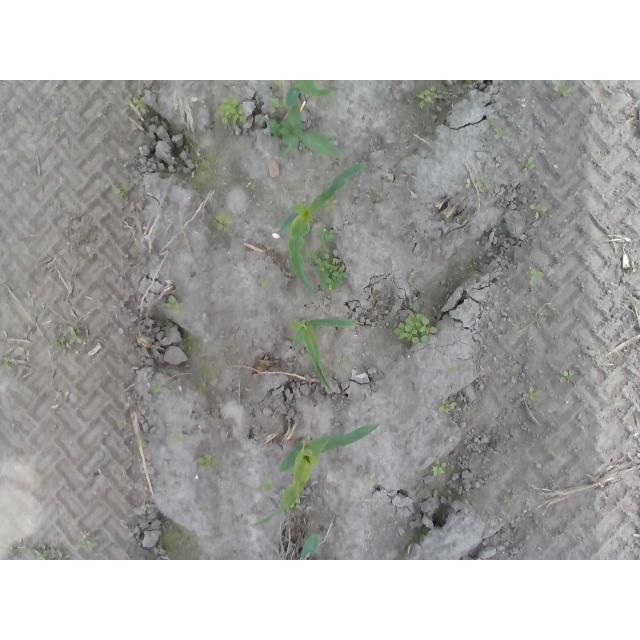Maize: (252, 421, 380, 535), (280, 162, 371, 299), (288, 316, 356, 390), (284, 81, 339, 112), (300, 536, 325, 561)
Weeds: (269, 106, 341, 163), (306, 224, 350, 291), (391, 311, 438, 345), (218, 93, 248, 127), (162, 293, 183, 319), (416, 86, 438, 109), (58, 329, 82, 350), (196, 449, 220, 468), (32, 548, 65, 560), (214, 213, 234, 232), (553, 80, 572, 97), (530, 201, 547, 220), (437, 399, 458, 413), (529, 269, 544, 288), (523, 157, 537, 175), (334, 356, 352, 369), (433, 463, 448, 478), (526, 387, 541, 402), (133, 96, 147, 112), (79, 533, 94, 547), (261, 479, 275, 494), (113, 181, 127, 195), (271, 97, 281, 116), (560, 369, 573, 383), (241, 179, 256, 190), (476, 176, 489, 188), (495, 127, 506, 139), (259, 276, 269, 289), (367, 478, 381, 486), (291, 498, 301, 509), (326, 199, 338, 208), (174, 435, 183, 445), (410, 302, 417, 310)
